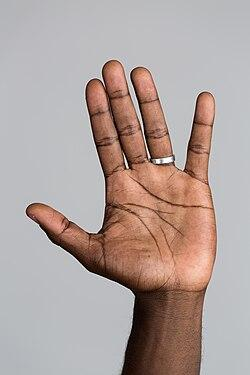paper: (16, 53, 231, 297)
